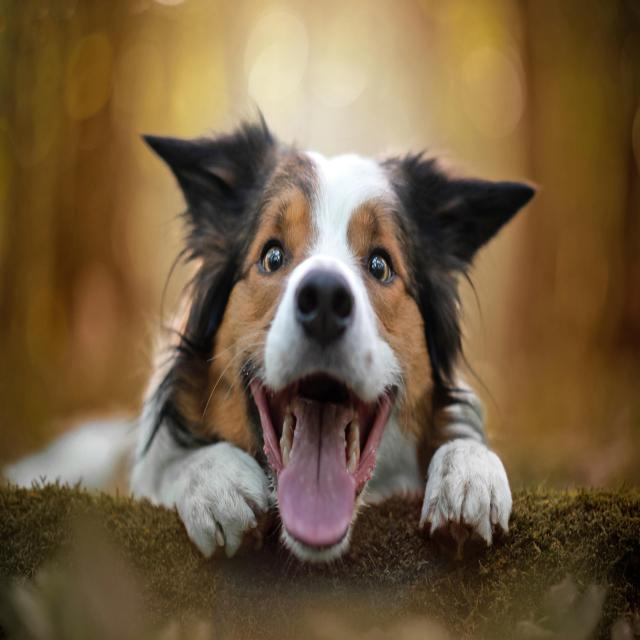Dog: (133, 116, 544, 559)
